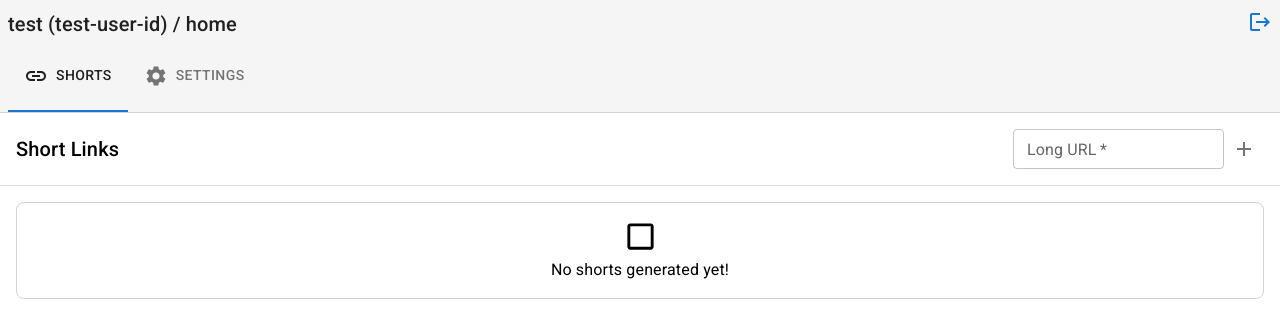
Test: home component › when navigated to settings view › should have information on how to access support for settings changes
Click the tab "Settings". click: (194, 76)
box: [144, 64, 244, 88]
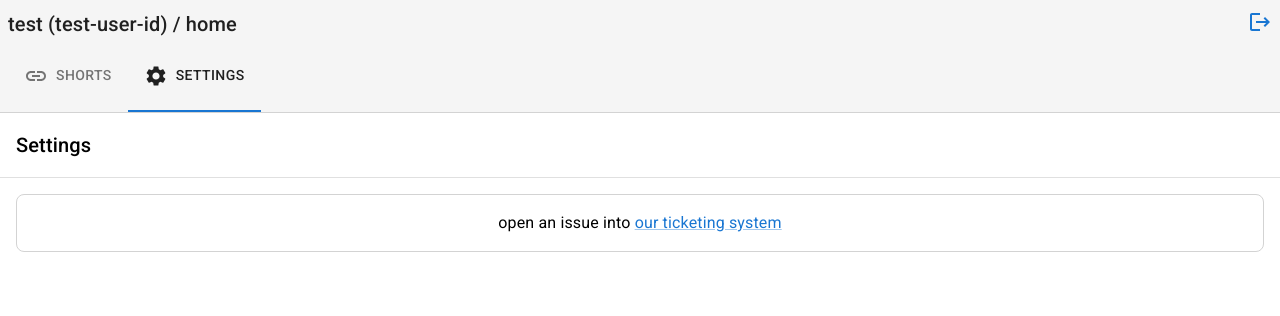
Now the link "our ticketing system" is shown, box [635, 213, 782, 232]
